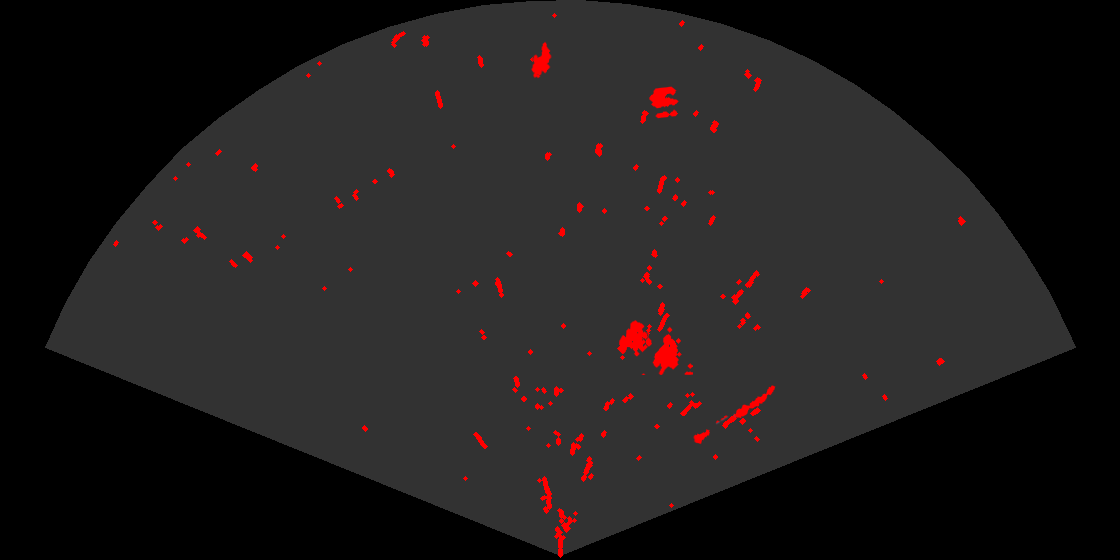AUV: (530, 40, 553, 80)
ball: (648, 85, 680, 120)
cage: (615, 319, 693, 375)
chain: (692, 384, 777, 446)
